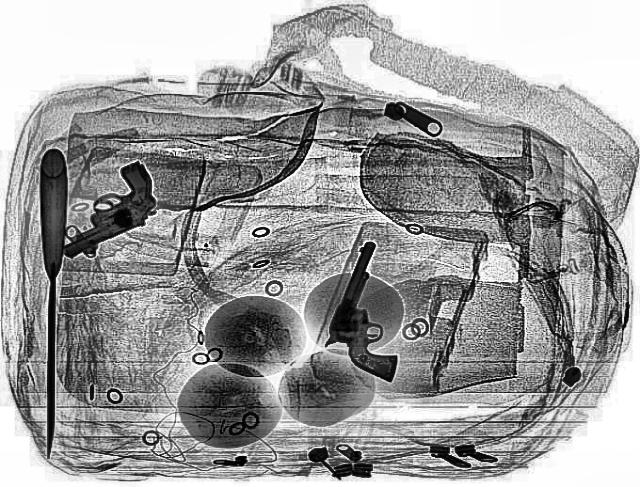Gun: (306, 237, 448, 381), (23, 160, 180, 256)
Knife: (36, 150, 64, 458)
